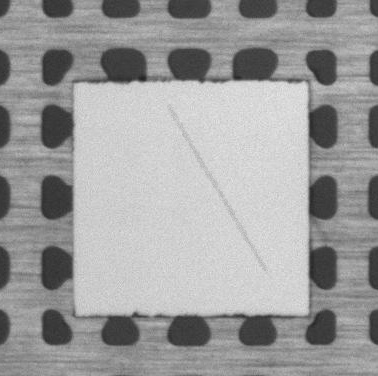DIE_CRACK: (170, 106, 267, 270)
